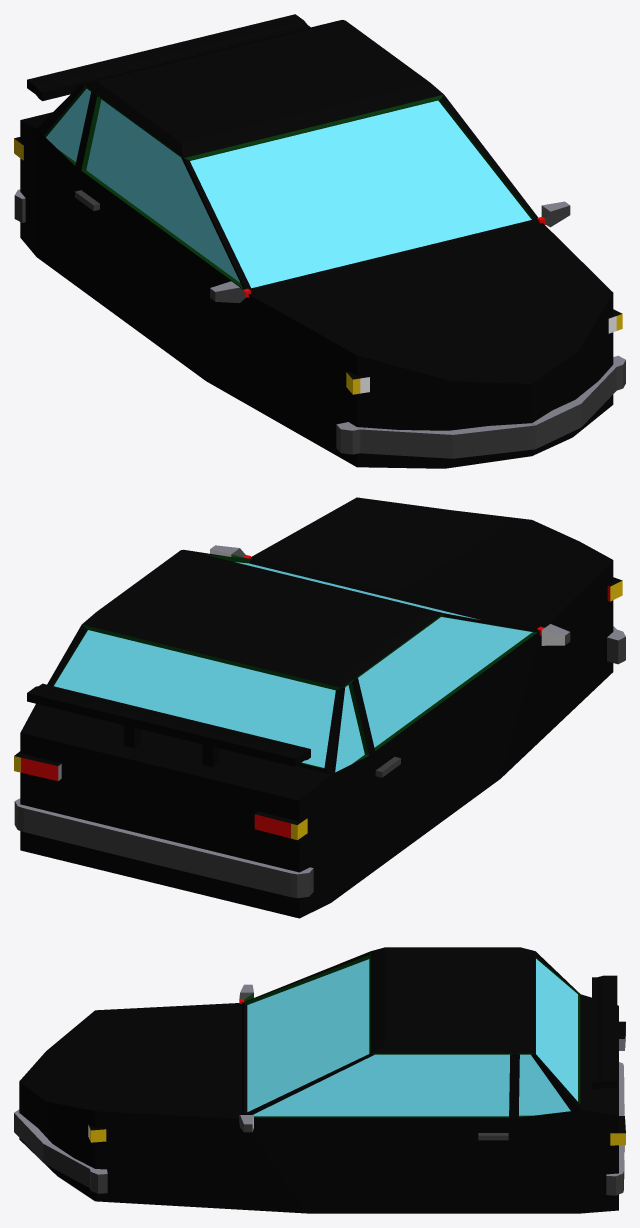
The model's file is Black_car.fbx.
The picture shows the model from 3 angles, top to bottom: view 1: azimuth 30°, elevation 25°; view 2: azimuth 150°, elevation 25°; view 3: azimuth 270°, elevation 25°; orthographic projection. The views are drawn at different scales.
Visible parts, largest first — view 1: SportBlack1; view 2: SportBlack1; view 3: SportBlack1.
Boxes of the visible parts, x1,y1,x2,y2 form: SportBlack1: (14, 14, 625, 468); SportBlack1: (14, 497, 625, 918); SportBlack1: (14, 947, 625, 1213).
Size of the model in its own units: 453 by 241 by 839.
